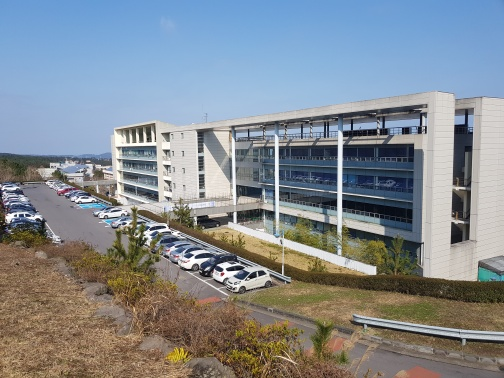Engineering College Building 4: (288, 108, 491, 273), (112, 118, 504, 200), (160, 123, 266, 201)
